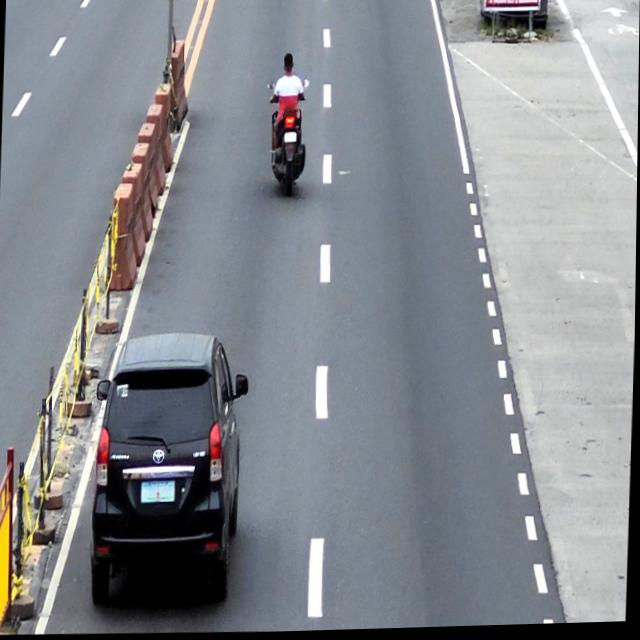Car: (91, 332, 252, 611)
License-Plate: (141, 481, 176, 504), (283, 133, 297, 144)
Motorcycle: (264, 81, 309, 199)
